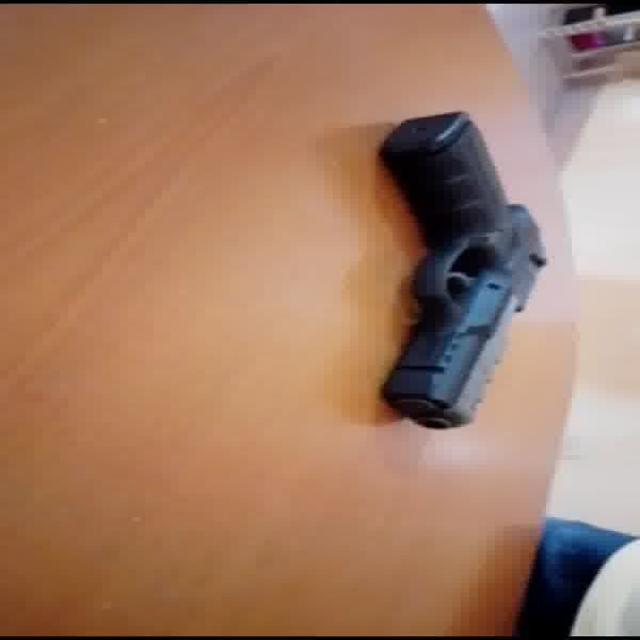weapon: (374, 110, 550, 429)
